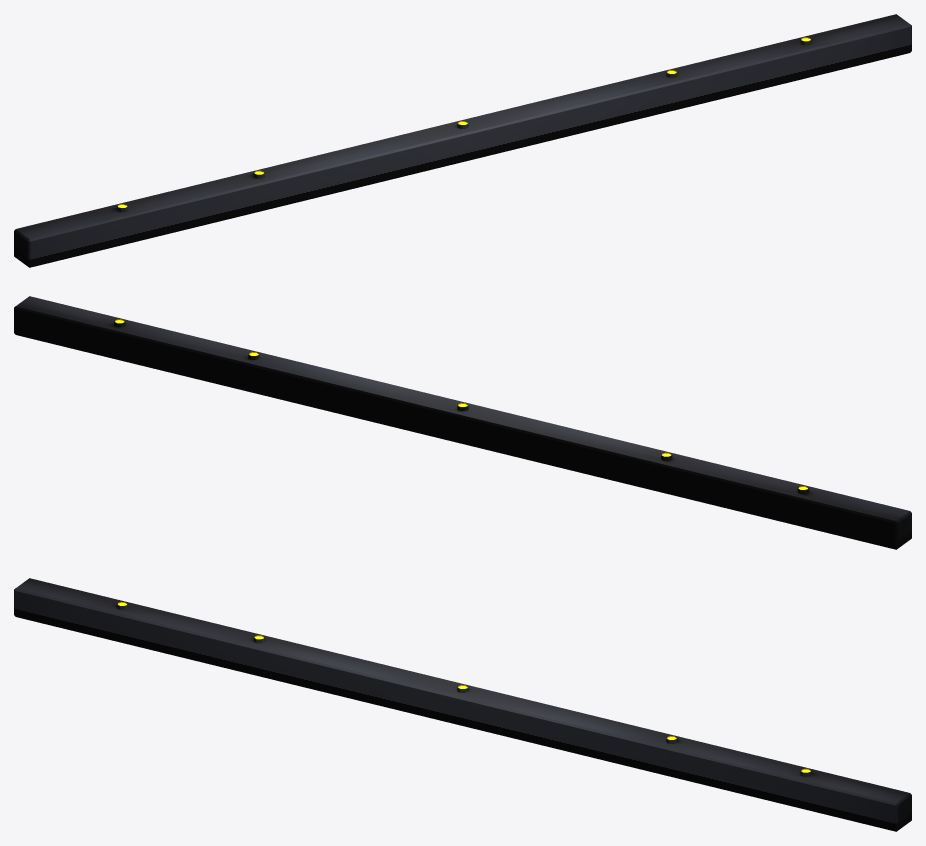
The model's file is BackLight.glb.
3 views of the same model, one above another, from view 1: azimuth 30°, elevation 25°; view 2: azimuth 150°, elevation 25°; view 3: azimuth 330°, elevation 25° (orthographic).
Parts seen in each view (by area): view 1: BackLight; view 2: BackLight; view 3: BackLight.
Part boxes in pixels (box(x1,y1,x2,y2)): BackLight: box(14, 14, 911, 267); BackLight: box(14, 296, 911, 549); BackLight: box(14, 578, 911, 831).
Size of the model in its own units: 64.61 by 2.26 by 2.
Materials: 2 (1 with a texture image).
